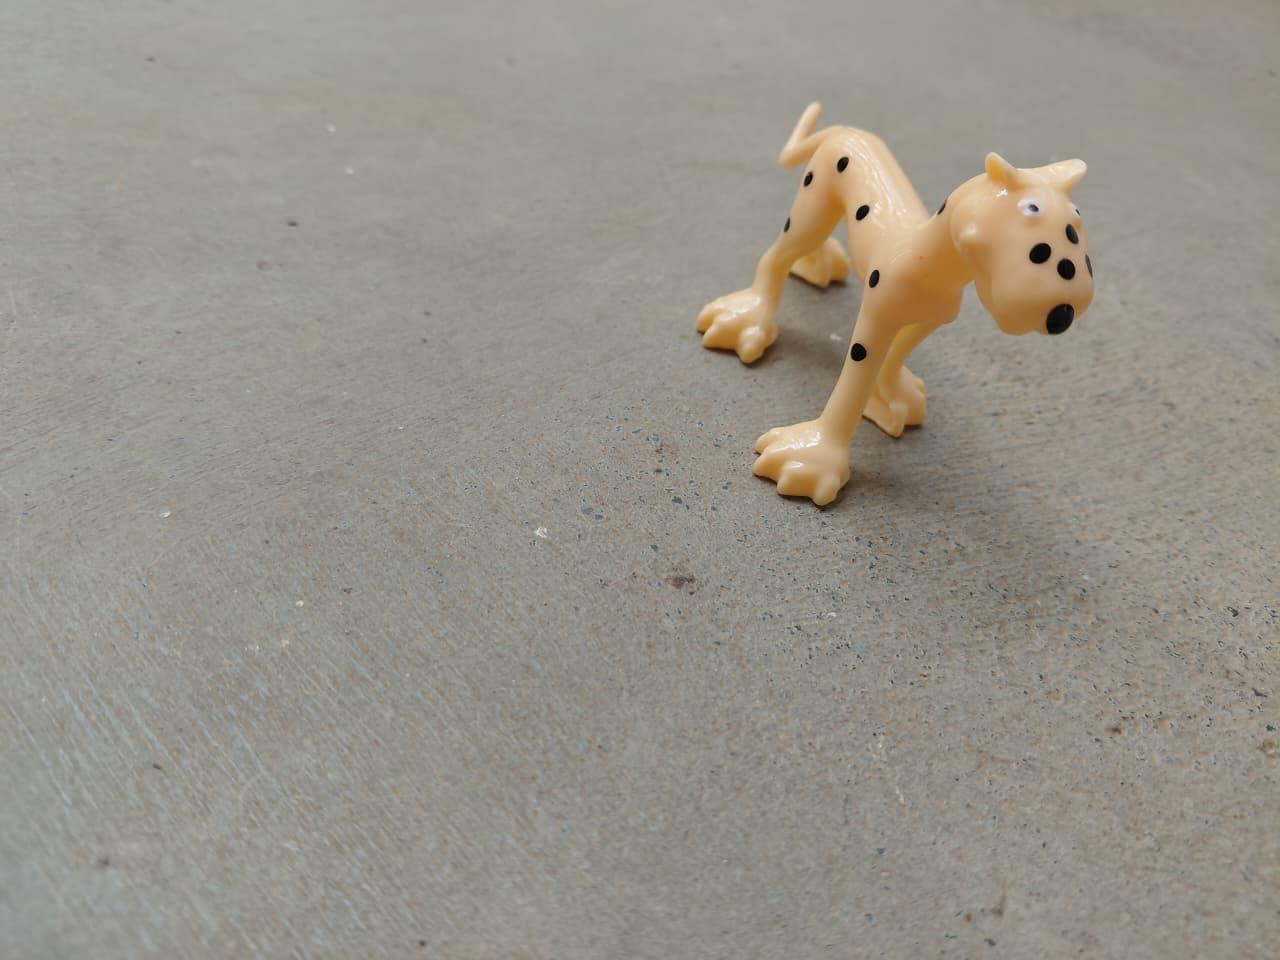cheetah: (682, 71, 1131, 522)
